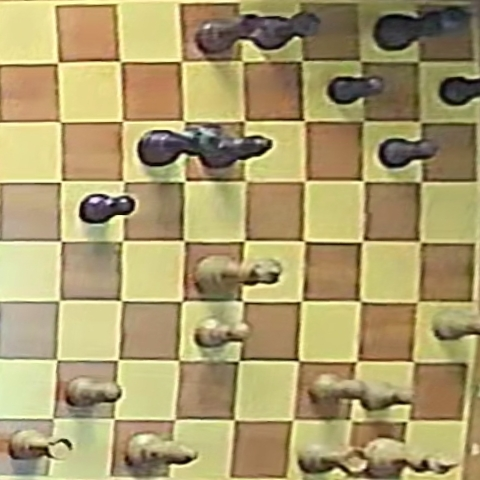black-bishop: (199, 132, 276, 173)
black-king: (375, 6, 473, 51)
black-pawn: (380, 137, 440, 168), (80, 194, 135, 224), (328, 75, 384, 104), (440, 75, 480, 105)
black-queen: (142, 125, 225, 168)
black-rook: (197, 11, 266, 54), (251, 11, 320, 50)
white-bishop: (125, 432, 198, 470)
white-king: (365, 437, 457, 475)
white-pawn: (355, 379, 414, 409), (309, 374, 368, 403), (67, 377, 121, 407), (195, 319, 250, 347), (432, 308, 478, 340)
white-queen: (193, 255, 279, 294)
white-rook: (300, 443, 369, 476), (9, 429, 73, 461)
